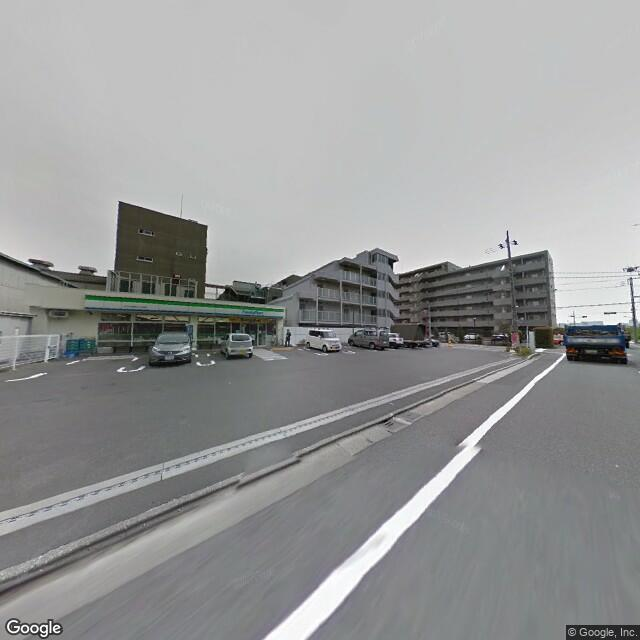family_mart: (82, 290, 287, 323), (238, 304, 268, 317)
